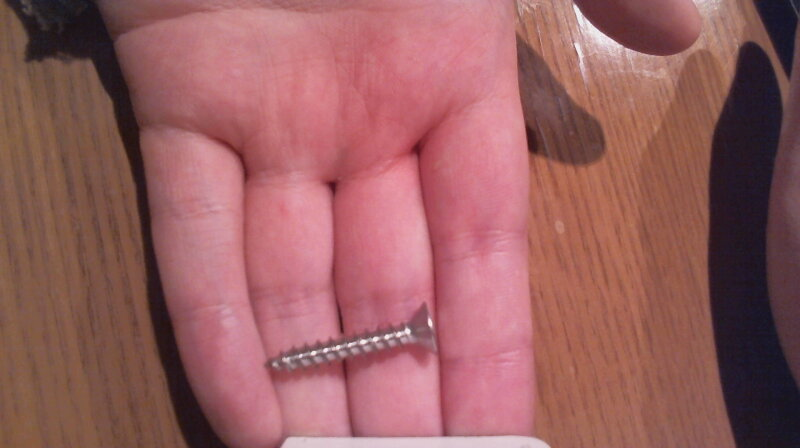S001: (260, 298, 442, 380)
